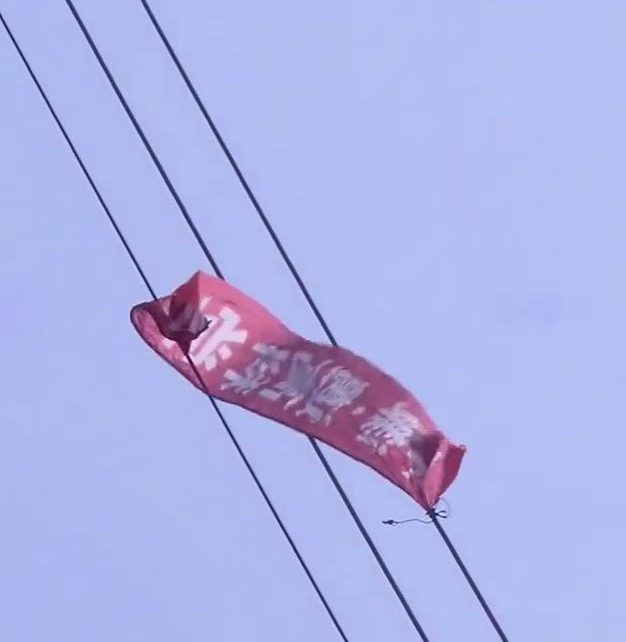wire foreign body: (124, 262, 476, 520)
